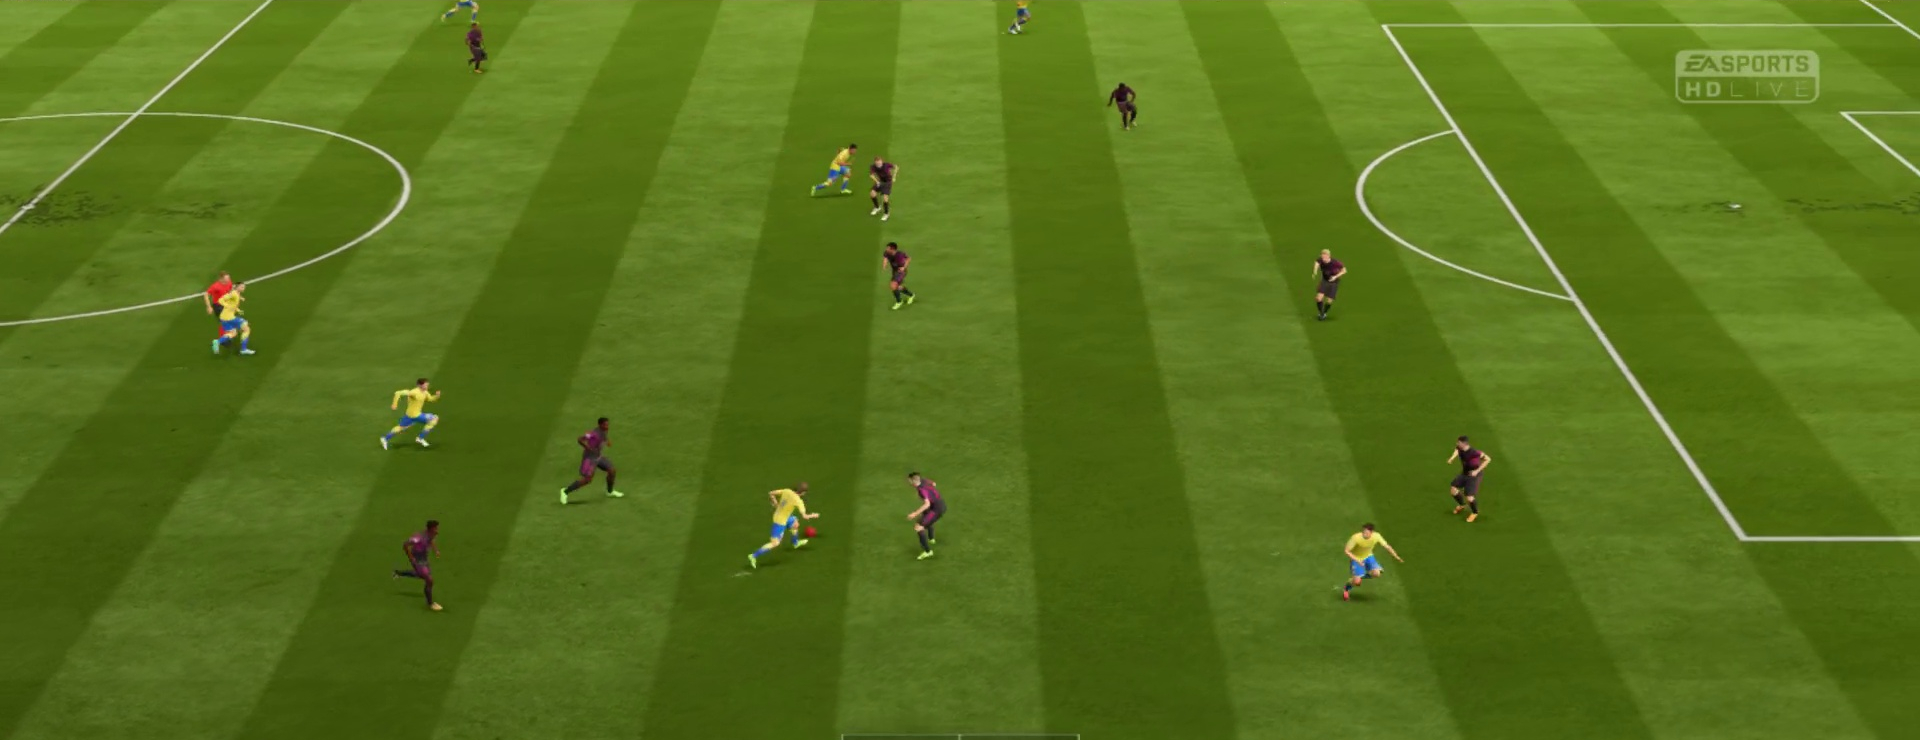person: (747, 479, 819, 570), (561, 416, 624, 505), (1339, 520, 1403, 600), (393, 515, 446, 611), (380, 377, 443, 449), (1443, 434, 1491, 522), (902, 469, 948, 561), (212, 282, 256, 356), (808, 138, 859, 197), (1310, 246, 1348, 320), (881, 241, 916, 311), (865, 154, 898, 220), (203, 266, 234, 336), (1104, 82, 1141, 131), (466, 22, 489, 75), (1006, 1, 1034, 36), (440, 1, 479, 25), (803, 524, 819, 539)
